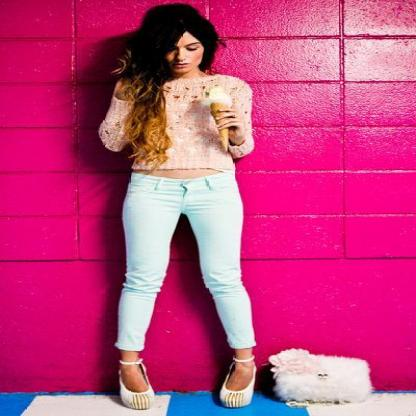jacket: (99, 75, 258, 179)
pants: (115, 173, 255, 350)
shoe: (120, 347, 256, 407)
